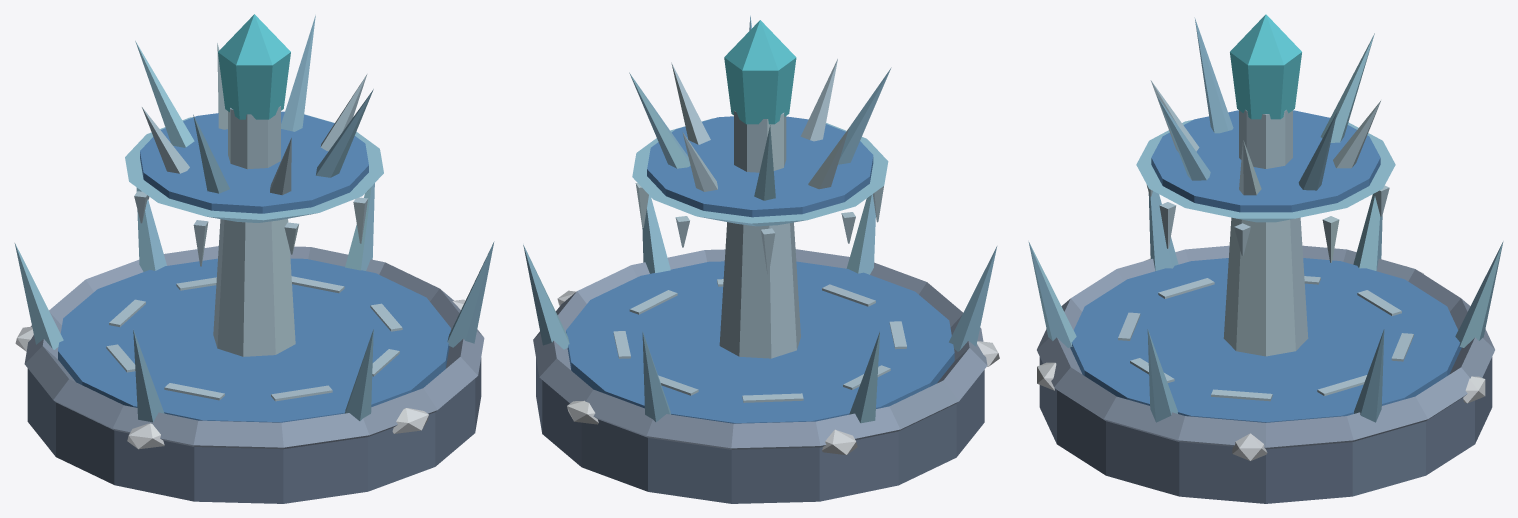
File: Decor_IcePalace_Fountain.fbx
The picture shows the model from 3 angles, left to right: view 1: azimuth 30°, elevation 25°; view 2: azimuth 150°, elevation 25°; view 3: azimuth 270°, elevation 25°; orthographic projection.
Visible parts, largest first — view 1: Fountain_Body; view 2: Fountain_Body; view 3: Fountain_Body.
Boxes of the visible parts, x1,y1,x2,y2 form: Fountain_Body: (14, 14, 494, 503); Fountain_Body: (523, 15, 999, 503); Fountain_Body: (1028, 14, 1503, 503).
Size of the model in its own units: 15 by 13.7 by 15.
